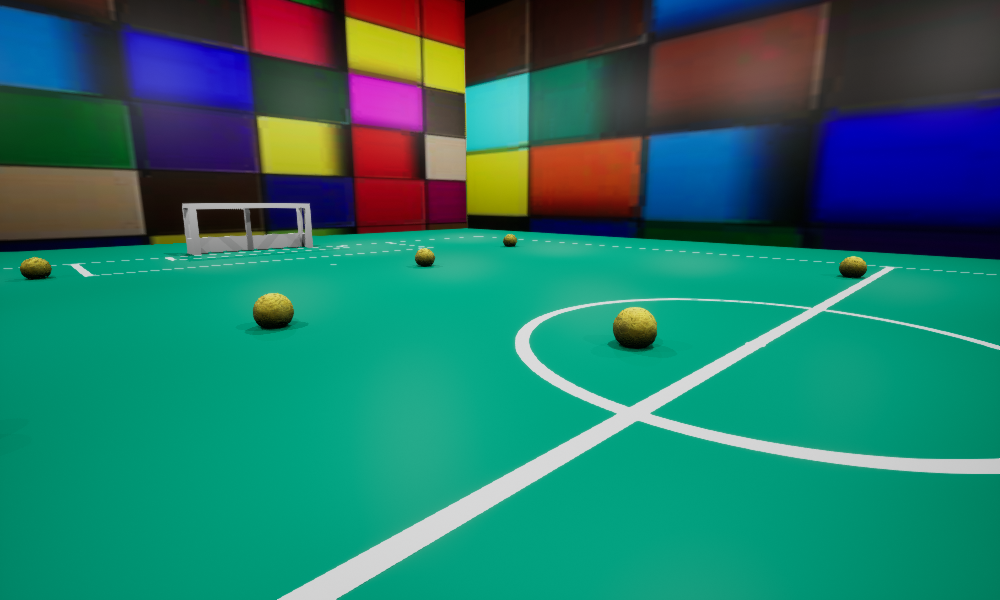b: (613, 307, 656, 347), (253, 293, 293, 328), (20, 257, 51, 278), (839, 256, 866, 277), (415, 248, 434, 265), (503, 234, 516, 246)
g: (182, 203, 312, 254)
